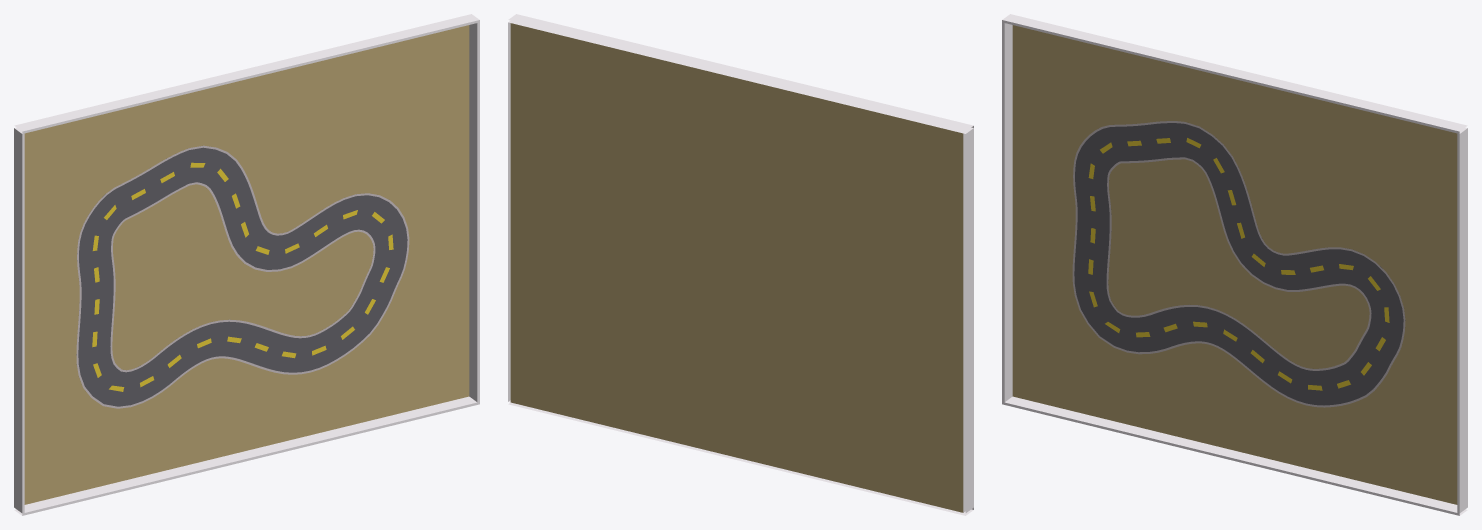
File: track.obj
3 views of the same model, side by side, from view 1: azimuth 30°, elevation 25°; view 2: azimuth 150°, elevation 25°; view 3: azimuth 330°, elevation 25° (orthographic).
Size of the model in its own units: 9.72 by 7.8 by 0.3.
5 materials, 5 textured.
